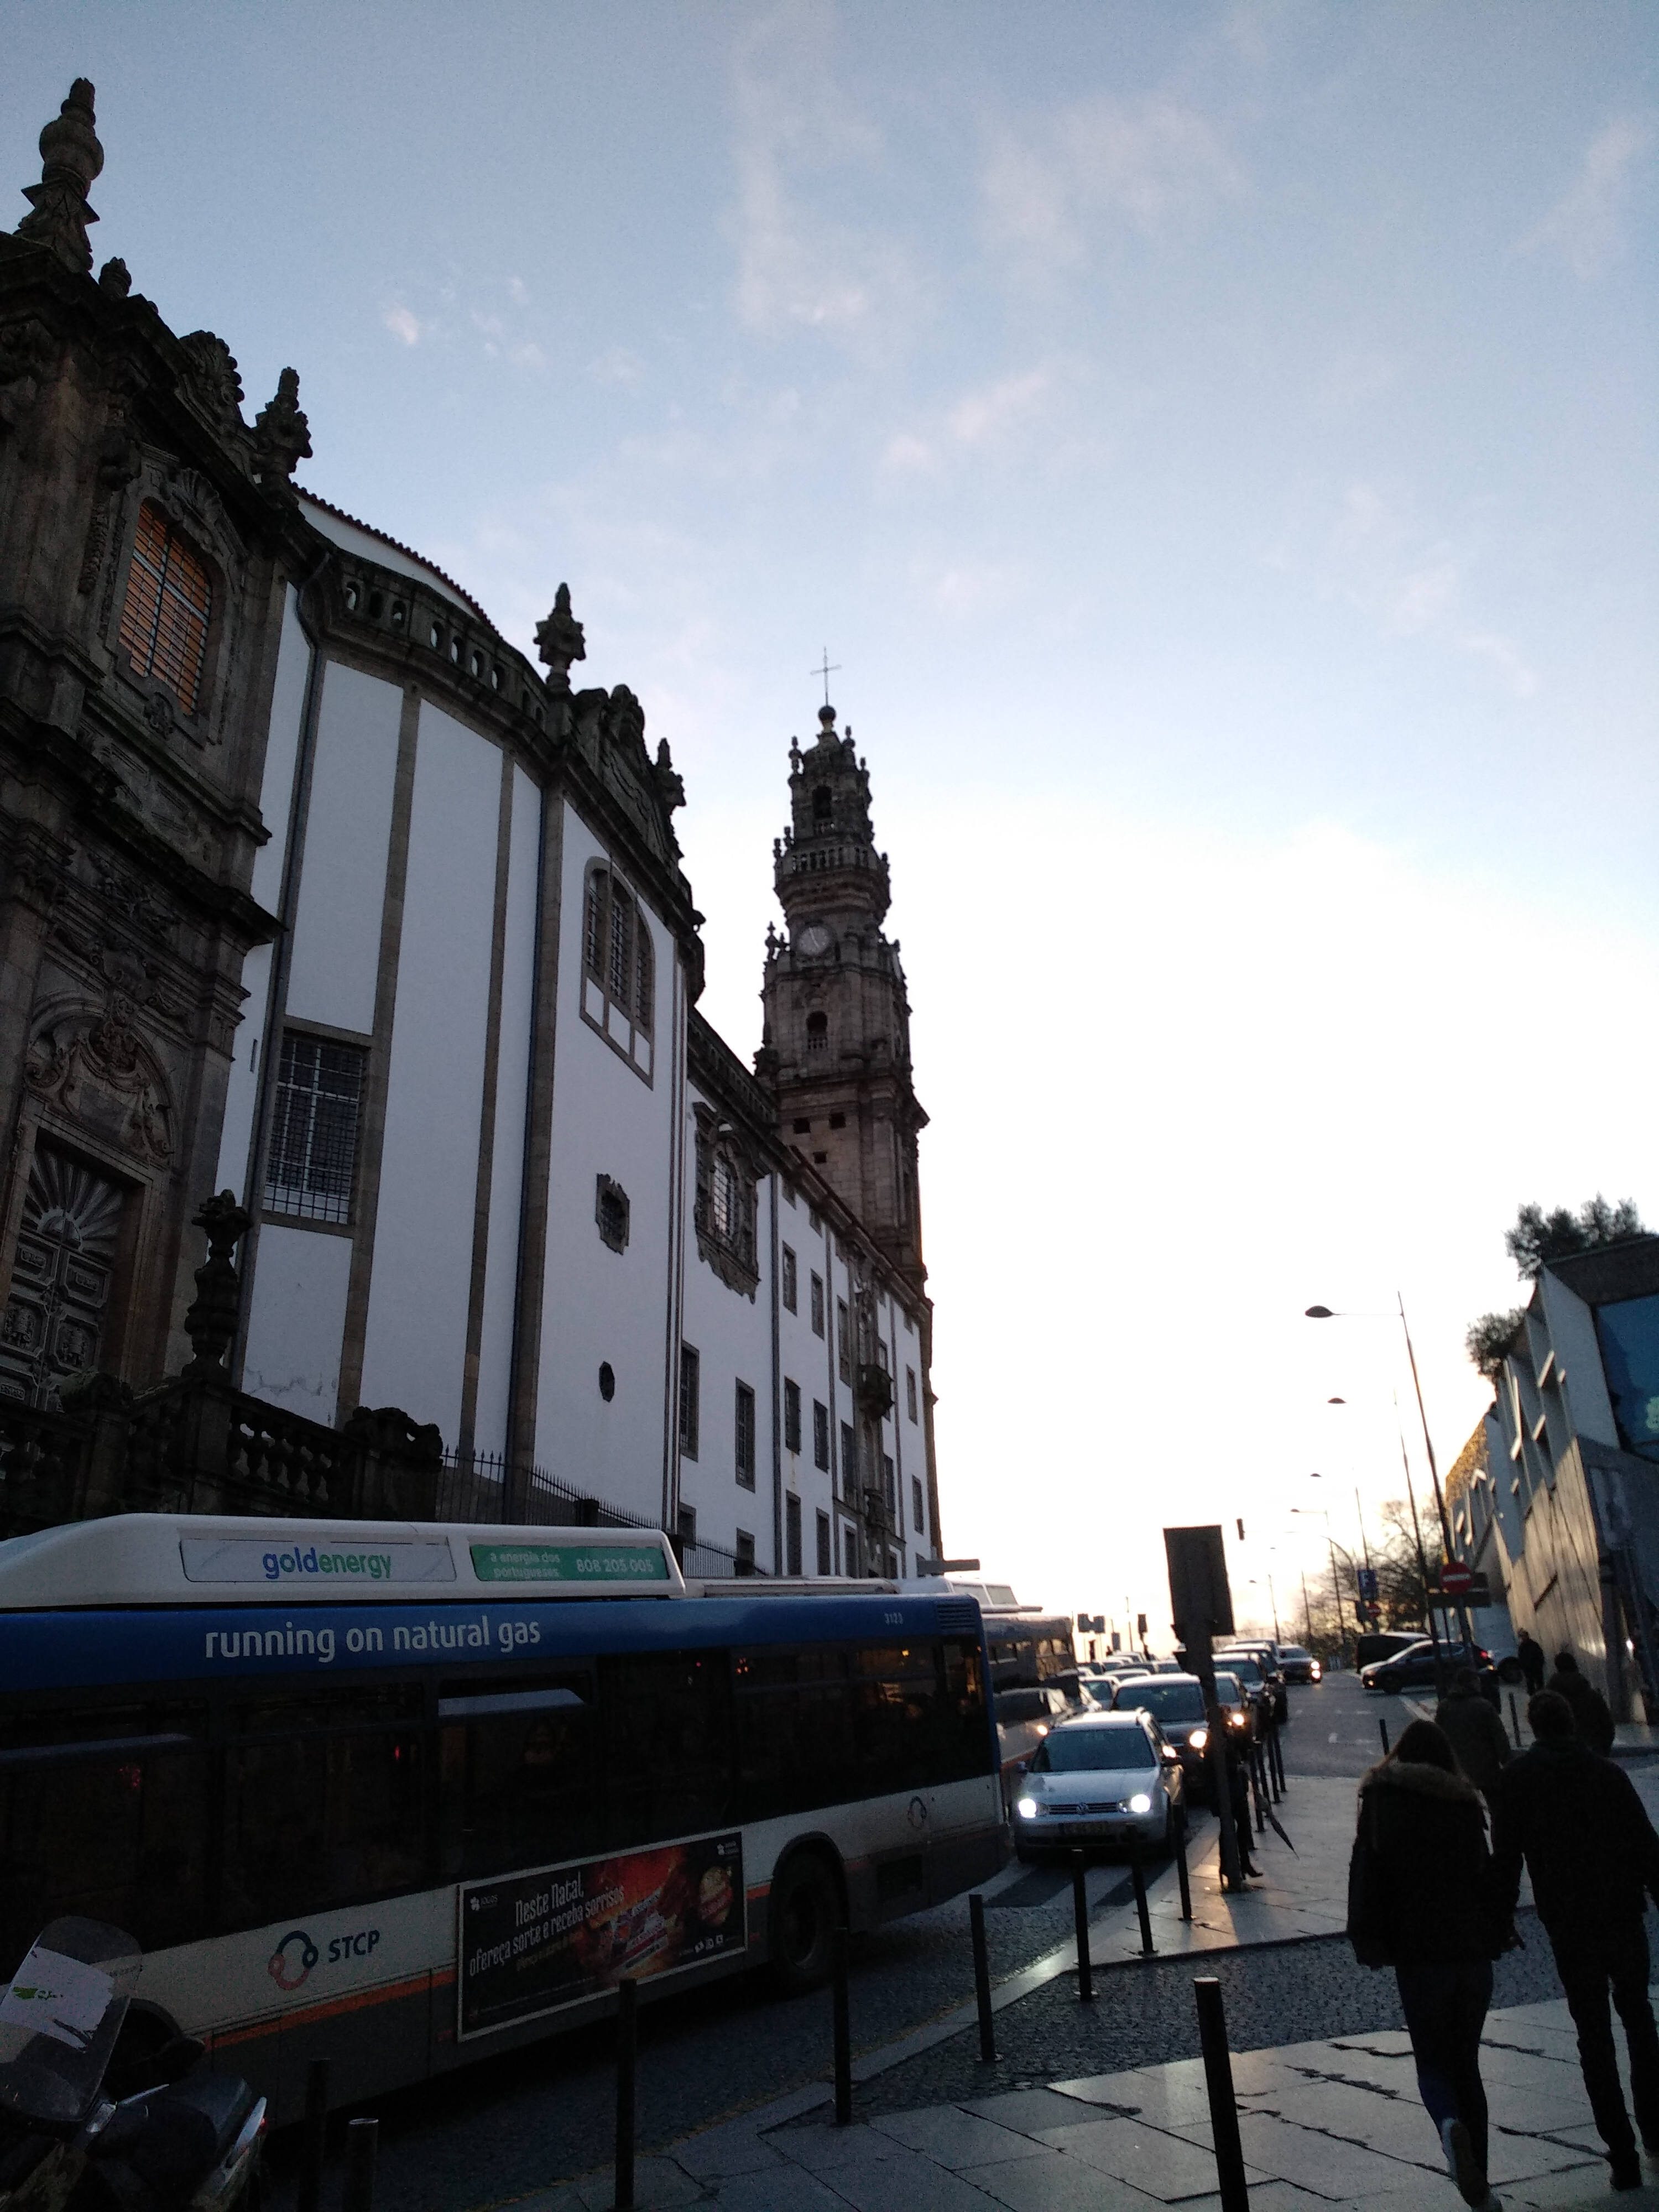clerigos: (207, 639, 730, 644)
